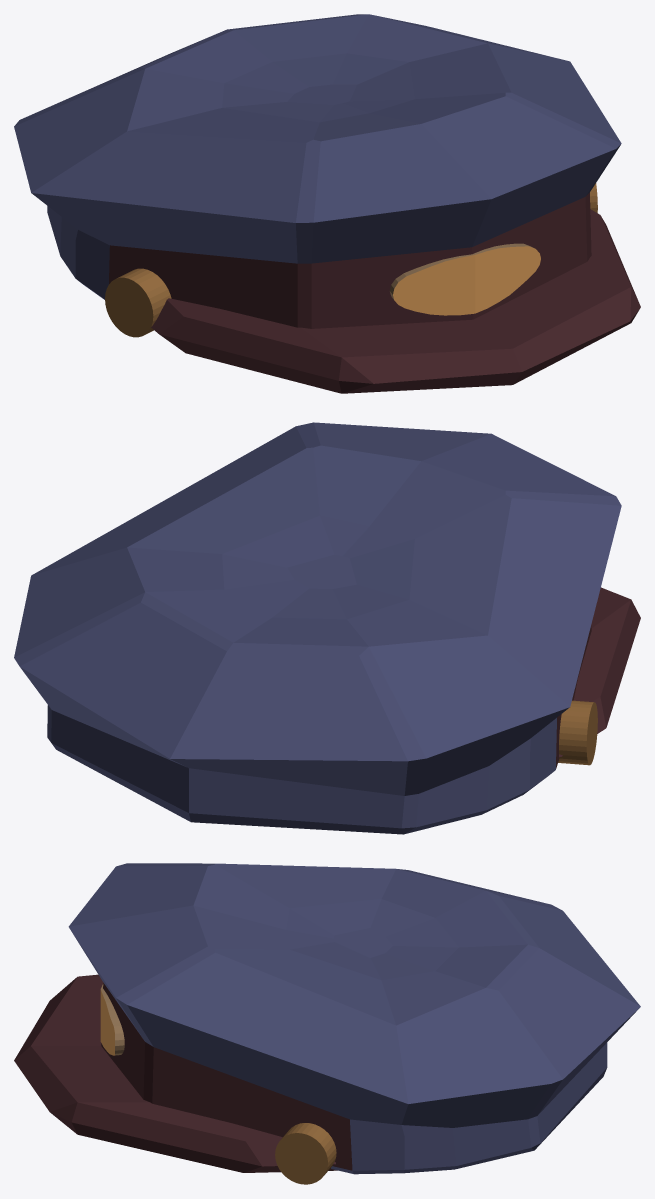
File: 3D_Aviator_Hat.fbx
The picture shows the model from 3 angles, top to bottom: view 1: azimuth 30°, elevation 25°; view 2: azimuth 150°, elevation 25°; view 3: azimuth 270°, elevation 25°; orthographic projection. The views are drawn at different scales.
Parts seen in each view (by area): view 1: 3D_Aviator_Hat; view 2: 3D_Aviator_Hat; view 3: 3D_Aviator_Hat.
Part boxes in pixels (x1,y1,x2,y2): 3D_Aviator_Hat: (14,14,640,393); 3D_Aviator_Hat: (14,422,640,834); 3D_Aviator_Hat: (14,863,640,1184).
Bounding box in the file's own units: 60.78 × 21.58 × 68.79.
